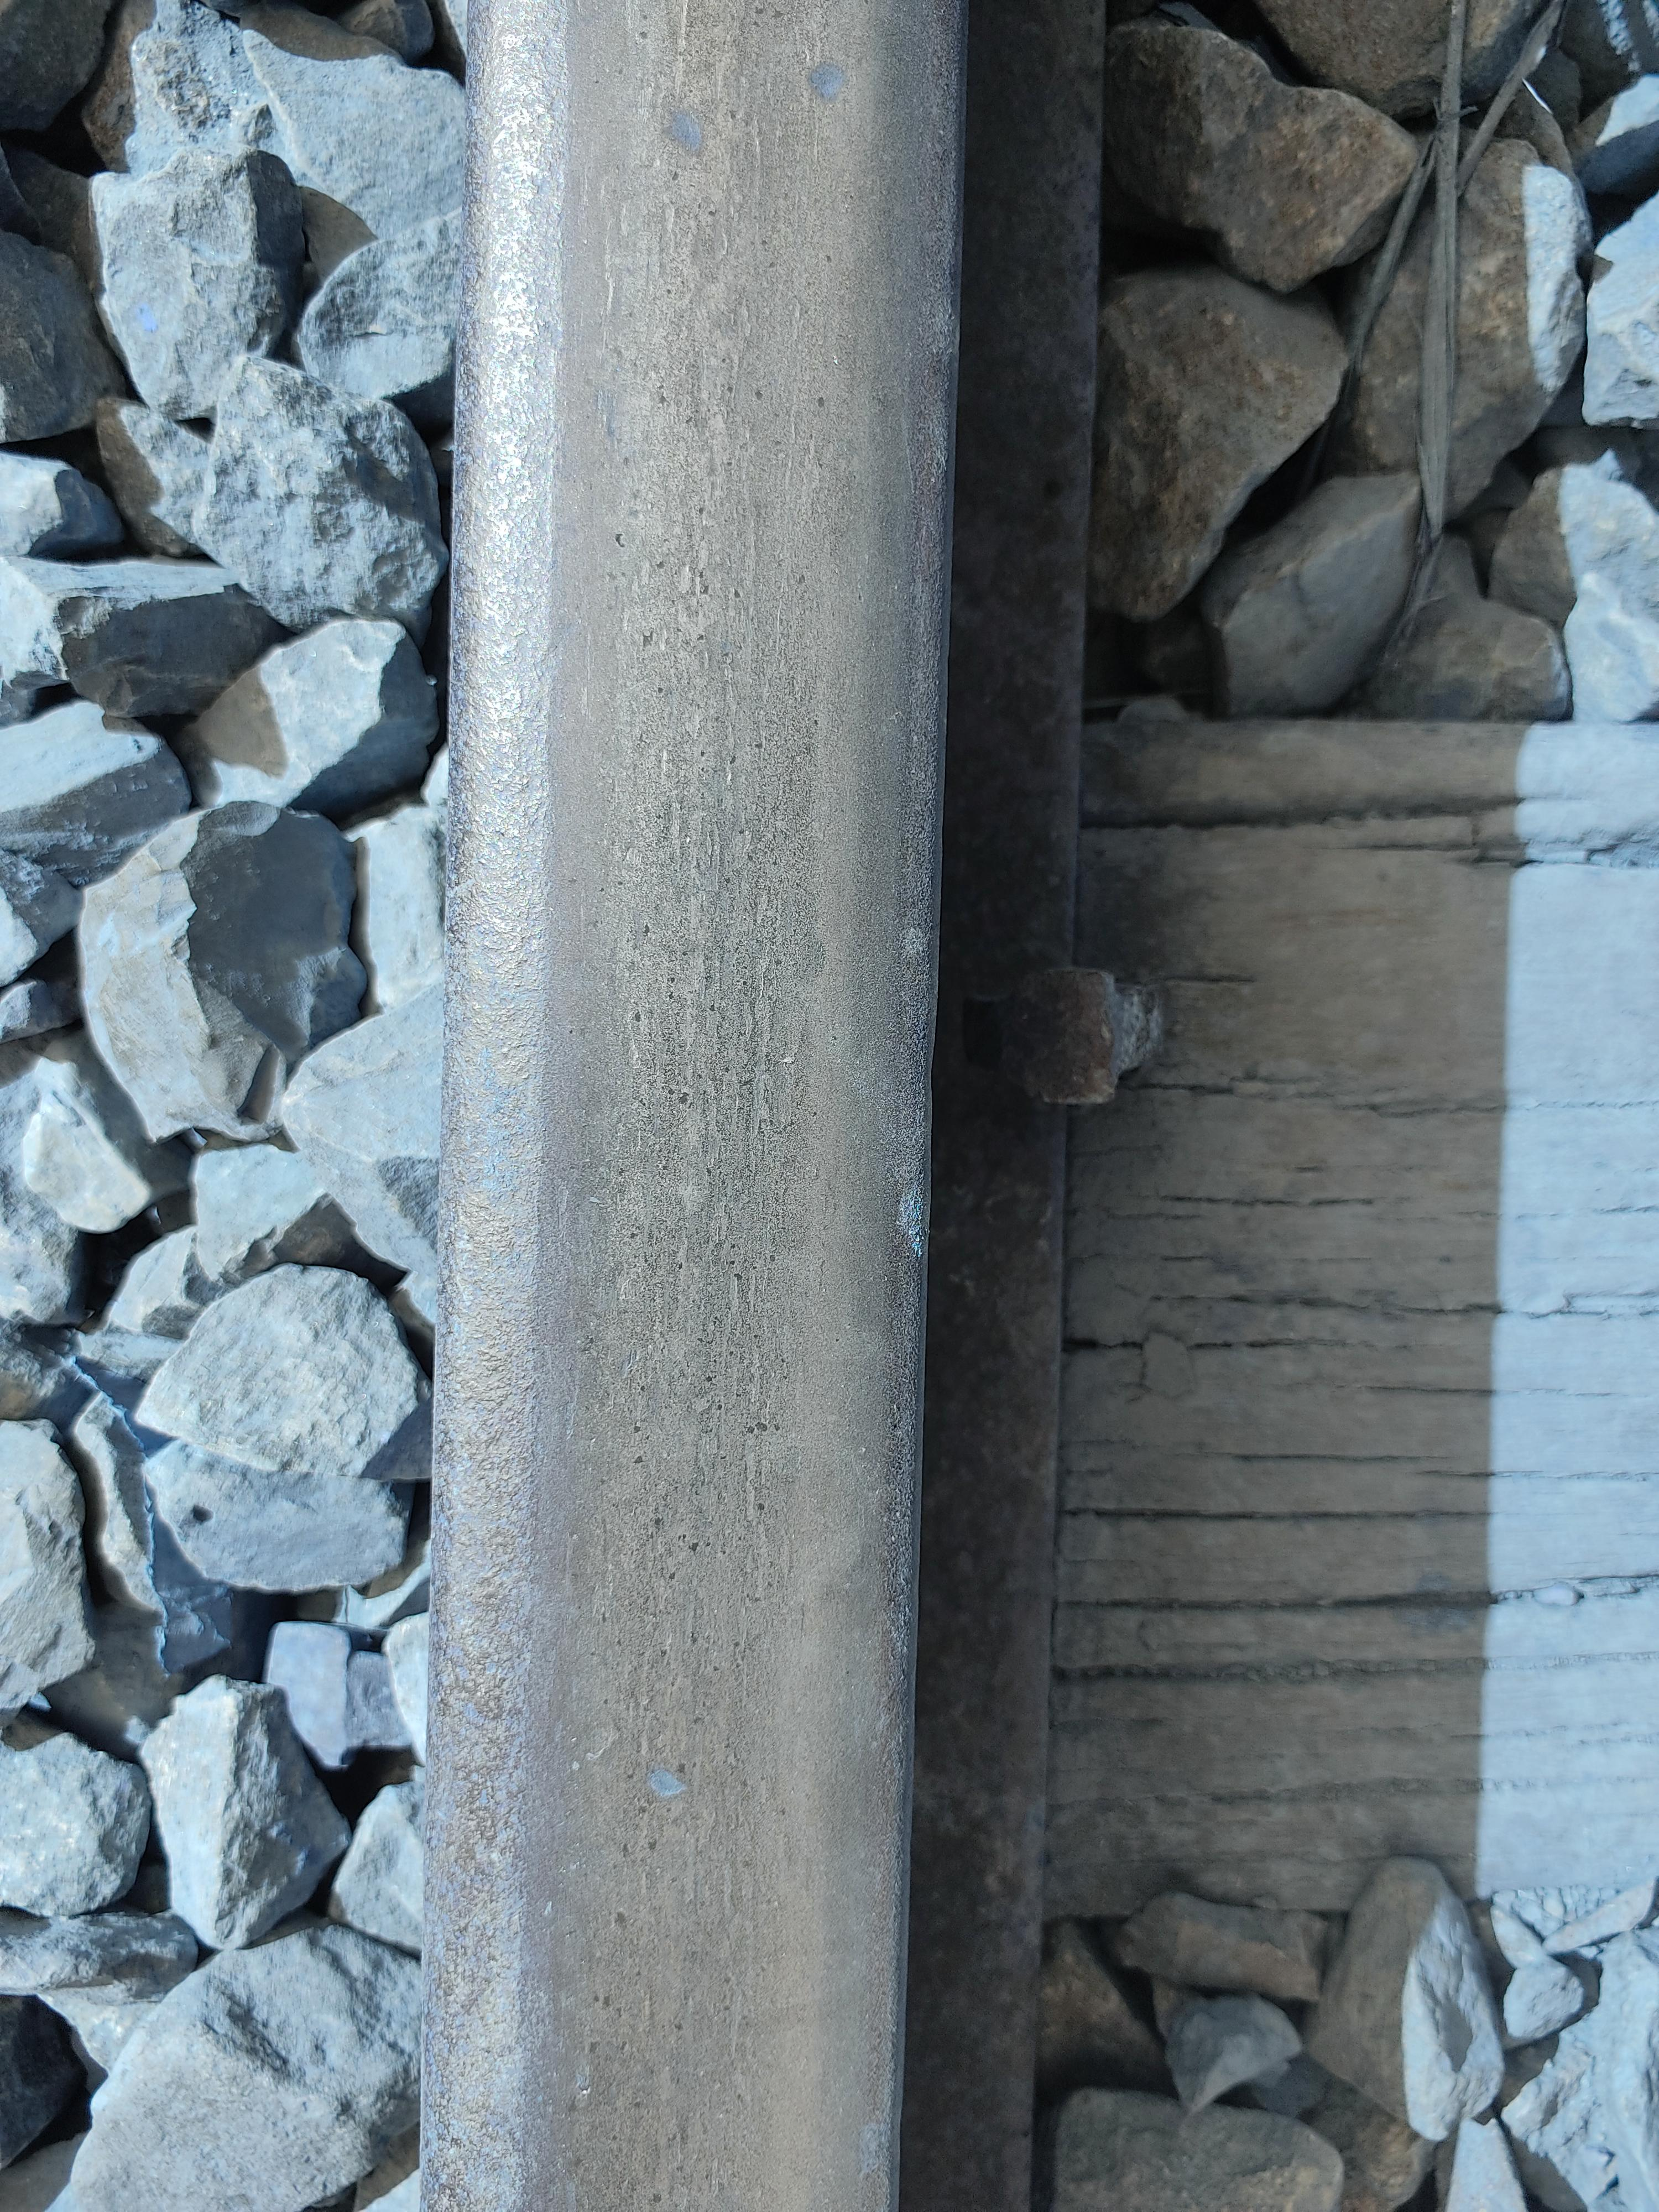error1: (951, 688, 1192, 1399)
